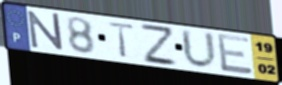8: (65, 15, 97, 56)
E: (215, 32, 256, 76)
N: (26, 10, 66, 52)
T: (107, 20, 137, 59)
U: (179, 27, 220, 71)
Z: (138, 22, 180, 68)
